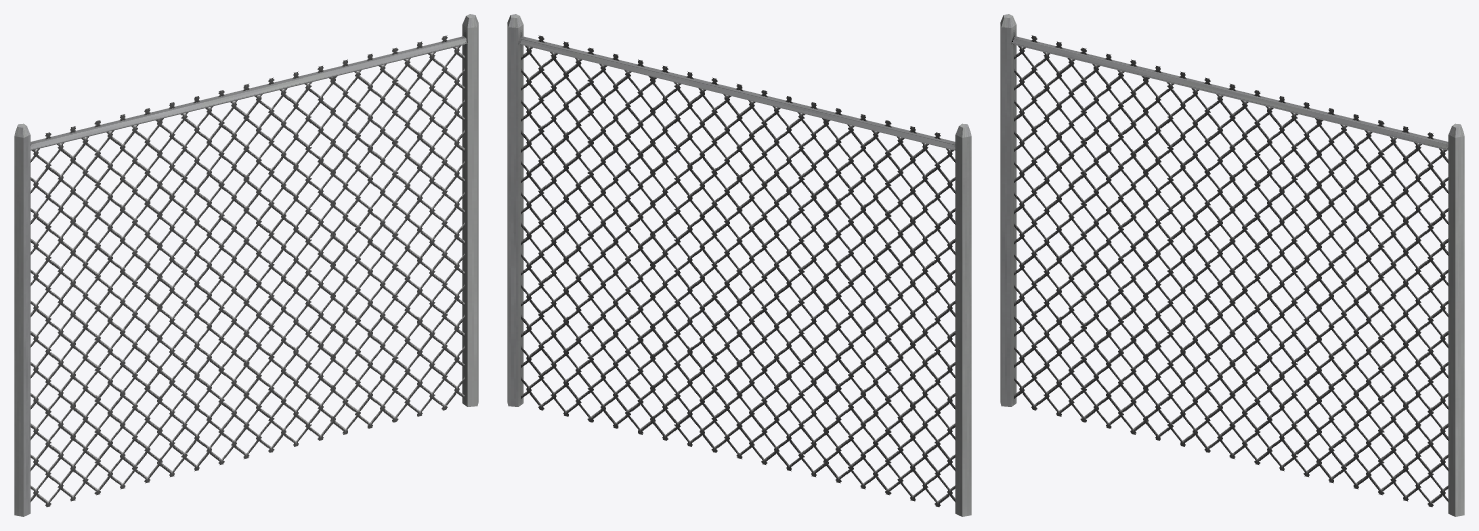
Rendered from Chain Fence 1.glb.
3 views of the same model, side by side, from view 1: azimuth 30°, elevation 25°; view 2: azimuth 150°, elevation 25°; view 3: azimuth 330°, elevation 25° (orthographic).
Parts seen in each view (by area): view 1: Chain Fence1; view 2: Chain Fence1; view 3: Chain Fence1.
Boxes of the visible parts, bbox=[...] form: Chain Fence1: bbox=[14, 14, 478, 516]; Chain Fence1: bbox=[507, 14, 971, 516]; Chain Fence1: bbox=[1000, 14, 1464, 516].
Size of the model in its own units: 3.08 by 2.46 by 0.0951.
2 materials, 2 textured.
